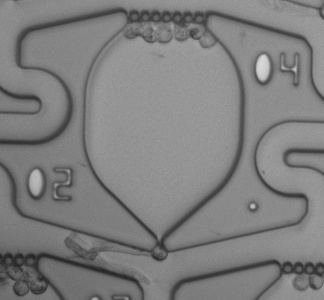AptNum: (246, 48, 308, 93)
Marker: (239, 195, 269, 222)
StNum: (19, 159, 81, 209)
Trap: (139, 241, 183, 283)
